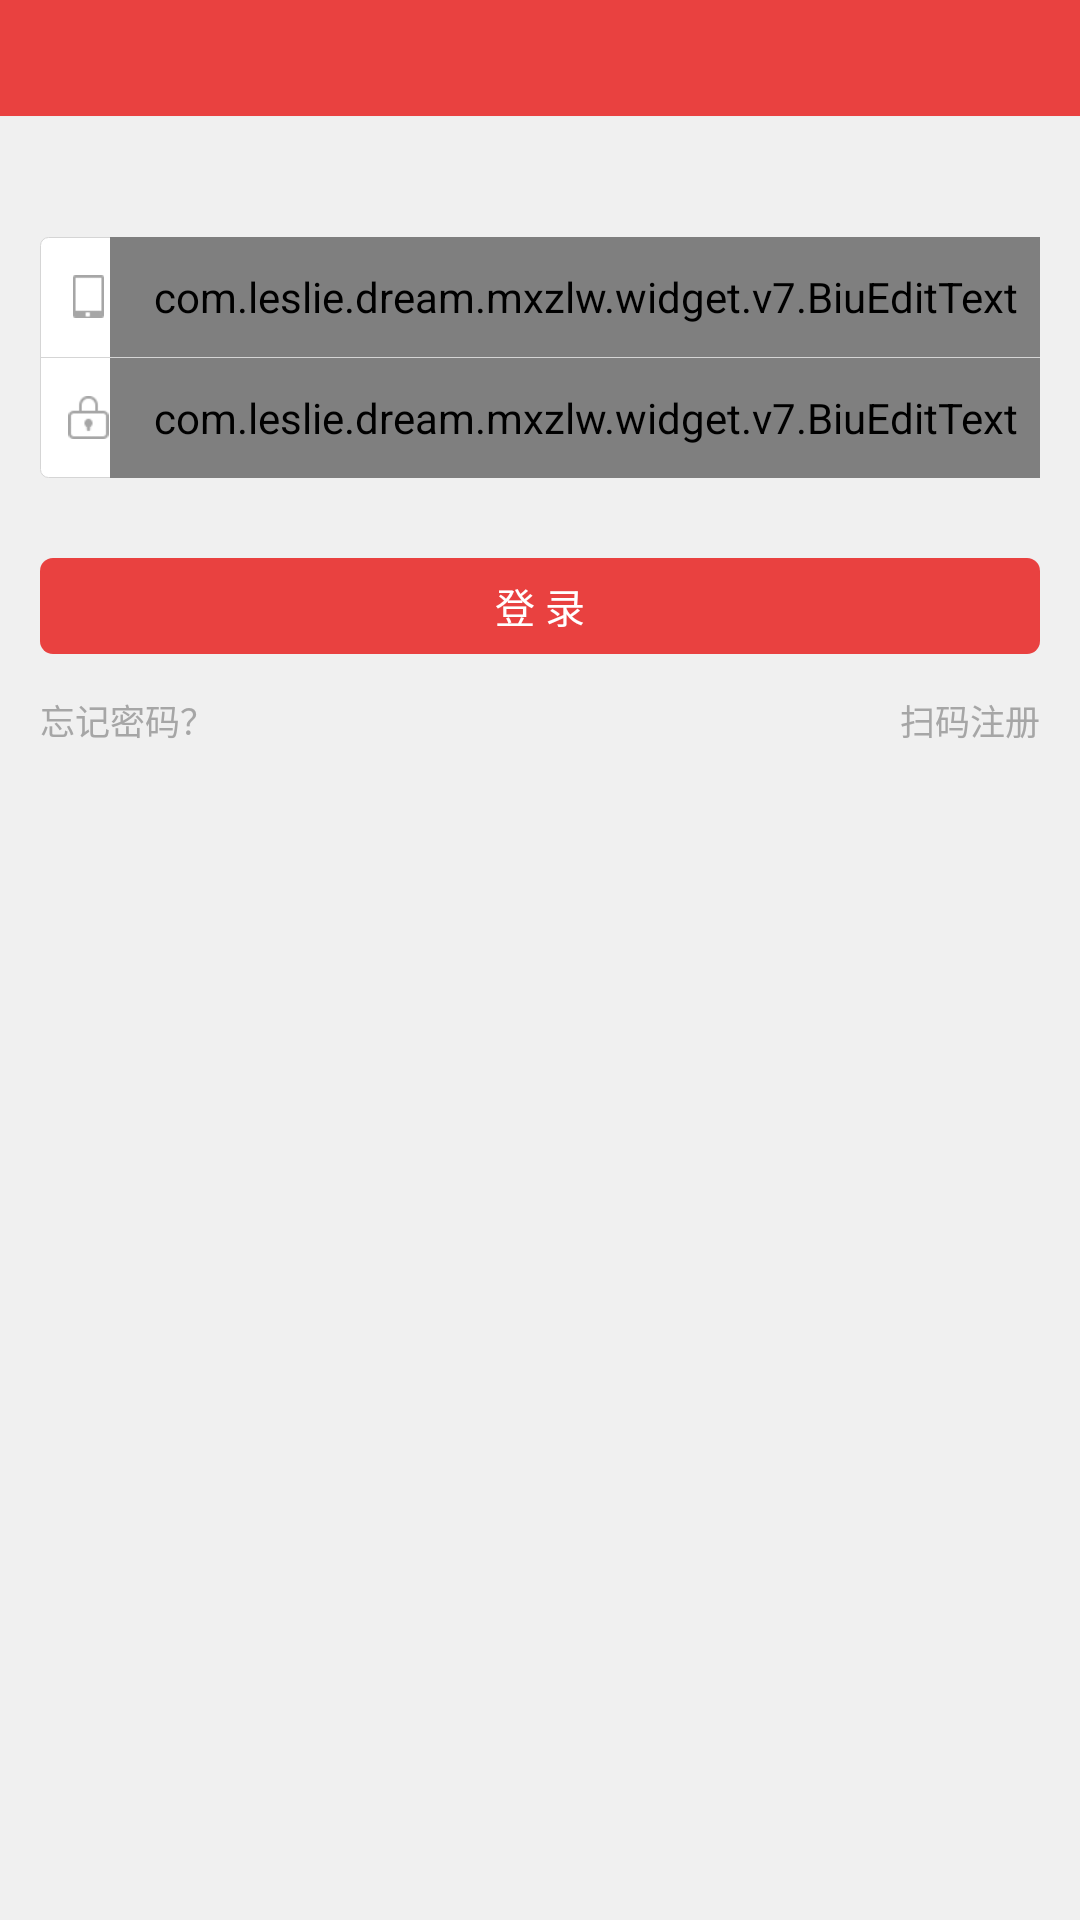

Named icons in this screenshot (1080 x 1920) and their centers, (x,y):
passwd: (88,417)
phone: (88,296)
